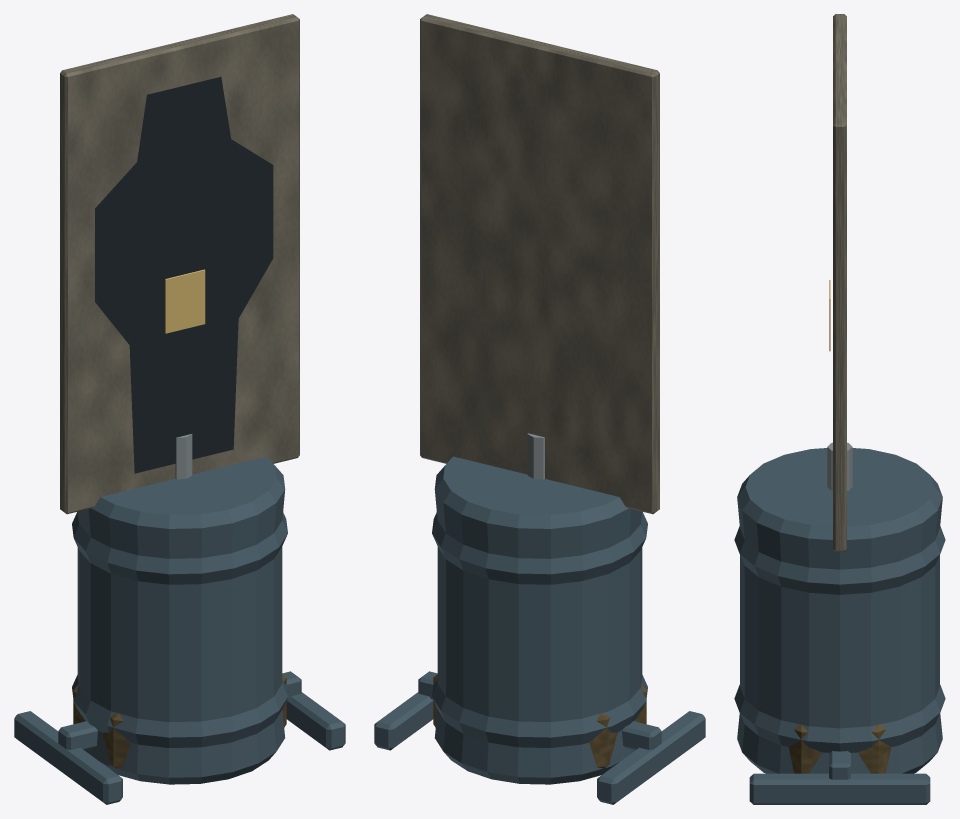
The model's file is props.glb.
The picture shows the model from 3 angles, left to right: view 1: azimuth 30°, elevation 25°; view 2: azimuth 150°, elevation 25°; view 3: azimuth 270°, elevation 25°; orthographic projection. The views are drawn at different scales.
Visible parts, largest first — view 1: TargetPlate, FuelDrum, TargetFrame, Sandbag; view 2: TargetPlate, FuelDrum, TargetFrame, Sandbag; view 3: FuelDrum, TargetPlate, TargetFrame, Sandbag.
Boxes of the visible parts, left/top/right/bottom form: TargetPlate: left=60, top=14, right=299, bottom=514; FuelDrum: left=72, top=456, right=287, bottom=784; TargetFrame: left=14, top=434, right=345, bottom=804; Sandbag: left=73, top=674, right=286, bottom=768; TargetPlate: left=420, top=14, right=659, bottom=514; FuelDrum: left=432, top=456, right=647, bottom=784; TargetFrame: left=374, top=433, right=705, bottom=804; Sandbag: left=433, top=674, right=646, bottom=768; FuelDrum: left=734, top=448, right=945, bottom=773; TargetPlate: left=829, top=14, right=846, bottom=551; TargetFrame: left=749, top=442, right=930, bottom=804; Sandbag: left=788, top=724, right=891, bottom=773.
Size of the model in its own units: 0.98 by 2.7 by 0.76.
Materials: 6 (2 with a texture image).
